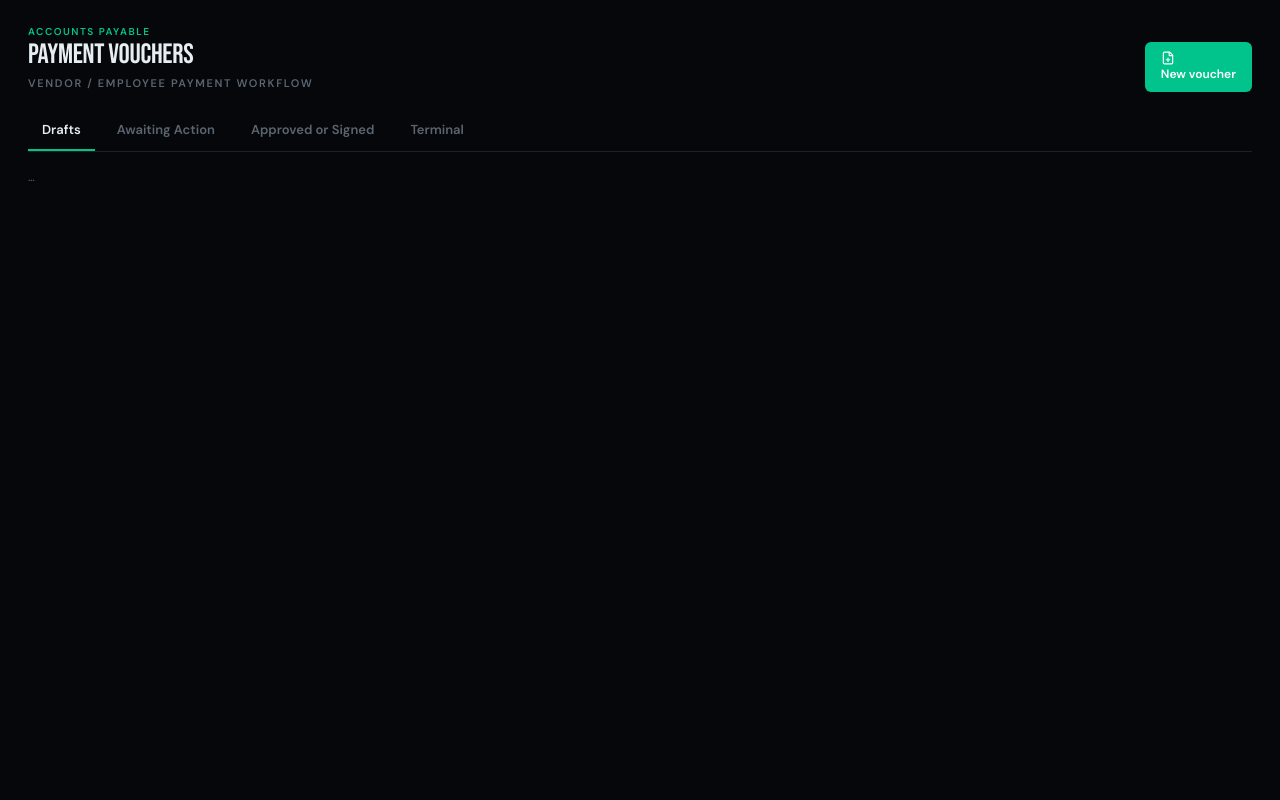
Test: PaymentVoucherScreen — AUDIT-ACC-002 › composer: compliant mandate (count=2) does NOT render the HASEEB-274 banner
Click the button with aria-label "Create a new payment voucher". click: (1198, 66)
box: [1145,42,1252,92]
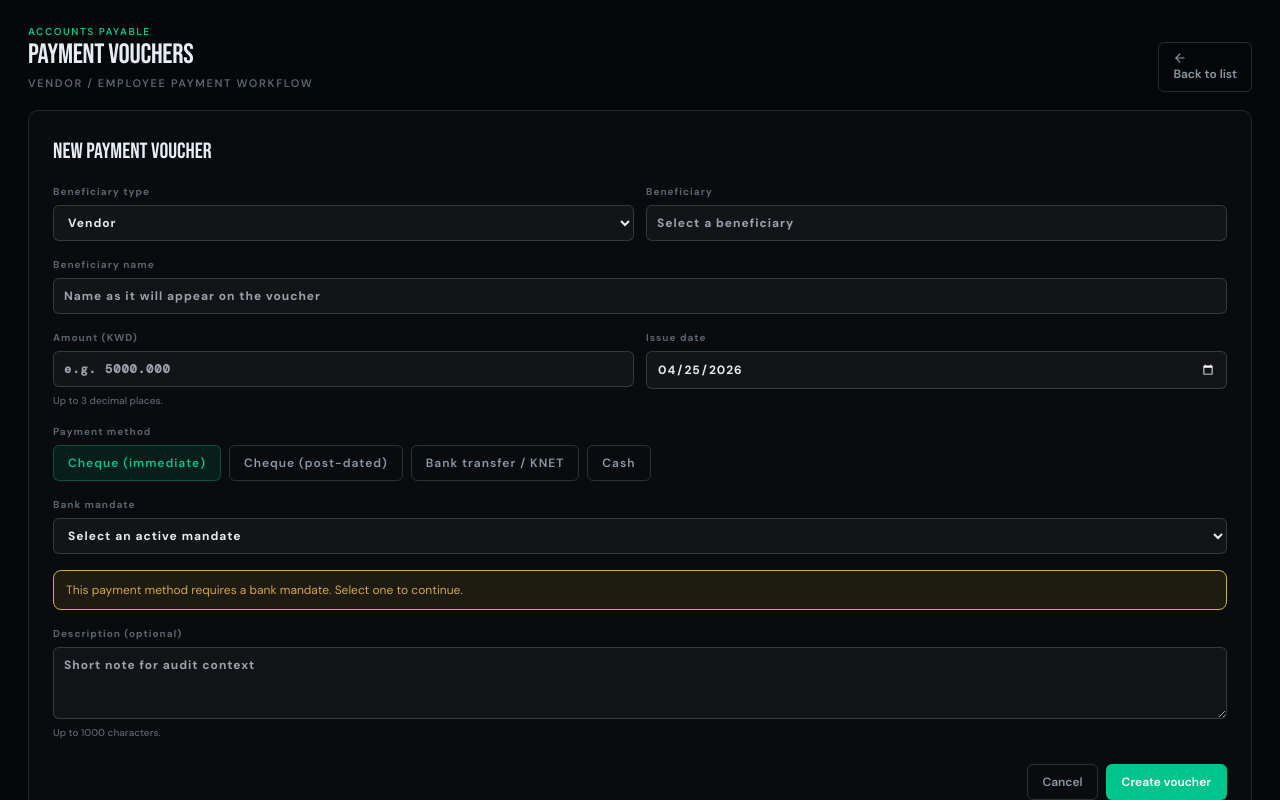
Select "NBK · ****4421" in the dropdown labelled "Bank mandate". click: (640, 536)
box: [53,518,1227,554]
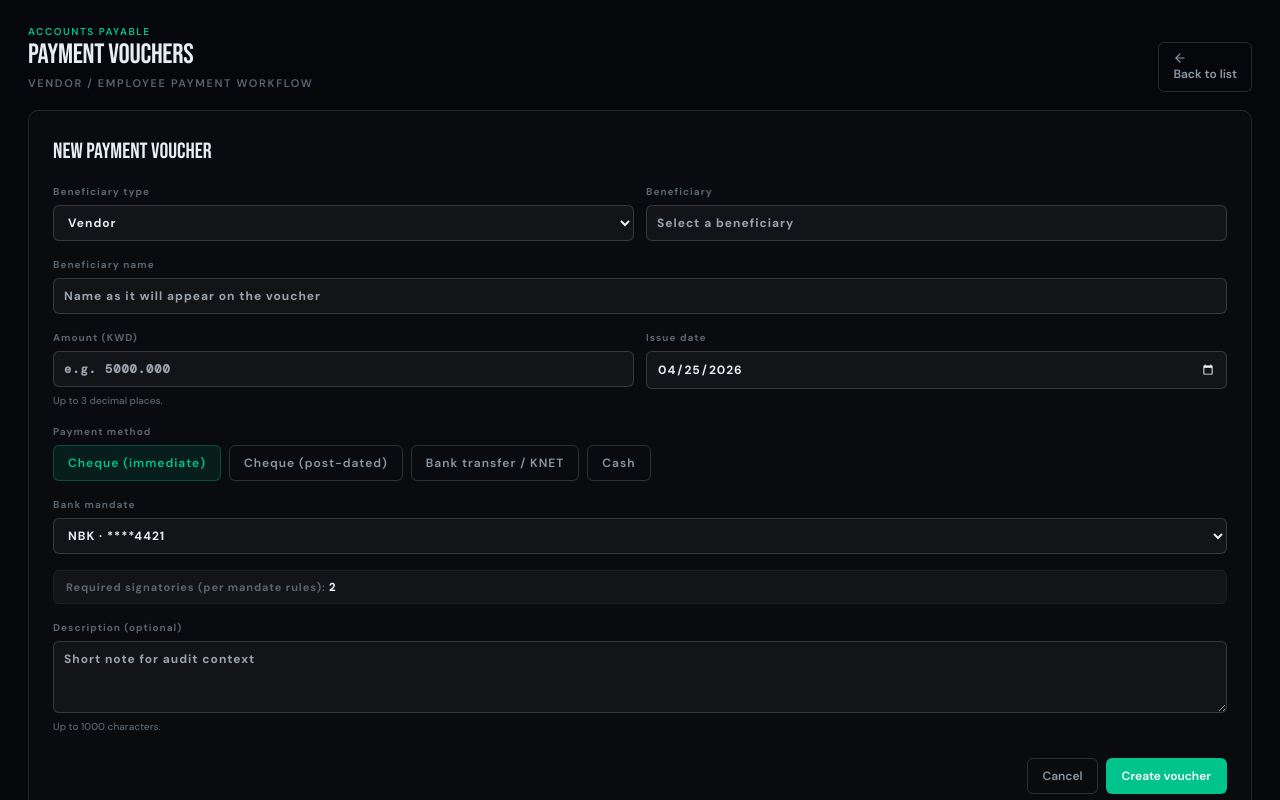
Check: the element with test id "composer-mandate-required-count" is shown, box [53,570,1227,604]
